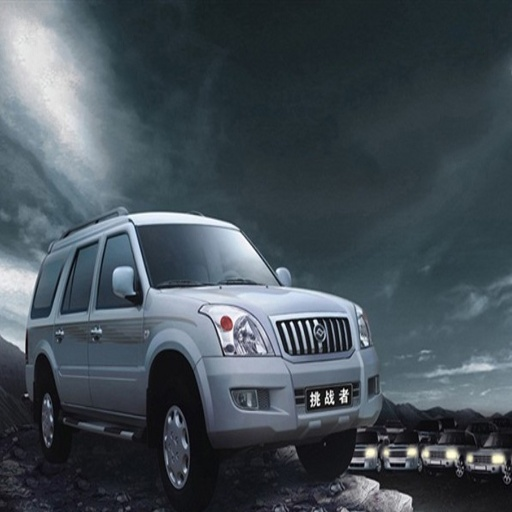_background_: (438, 349, 504, 418)
back_left_light: (46, 231, 104, 407)
back_right_light: (201, 316, 381, 446)
front_bumper: (136, 224, 276, 286)
front_left_light: (91, 225, 144, 410)
front_right_door: (215, 306, 273, 356)
front_right_light: (197, 284, 359, 319)
tailgate: (7, 319, 26, 358)
trunk: (153, 380, 214, 511), (38, 381, 68, 458), (303, 440, 349, 474)
